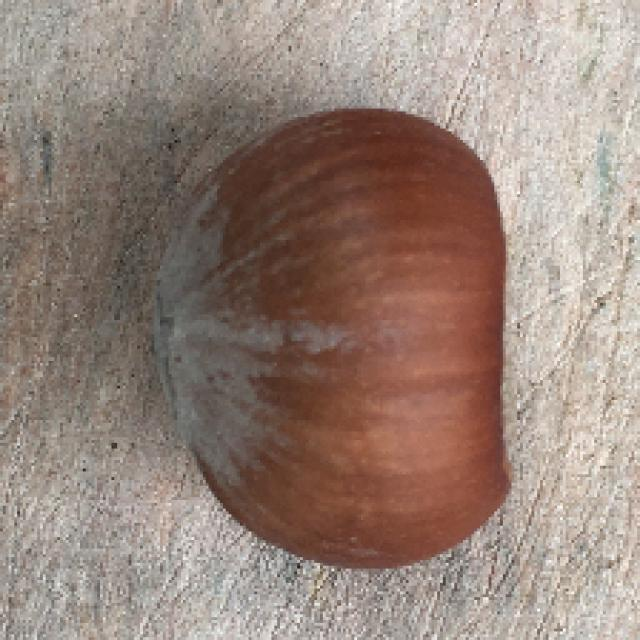qualityHazelnut: (149, 103, 515, 572)
